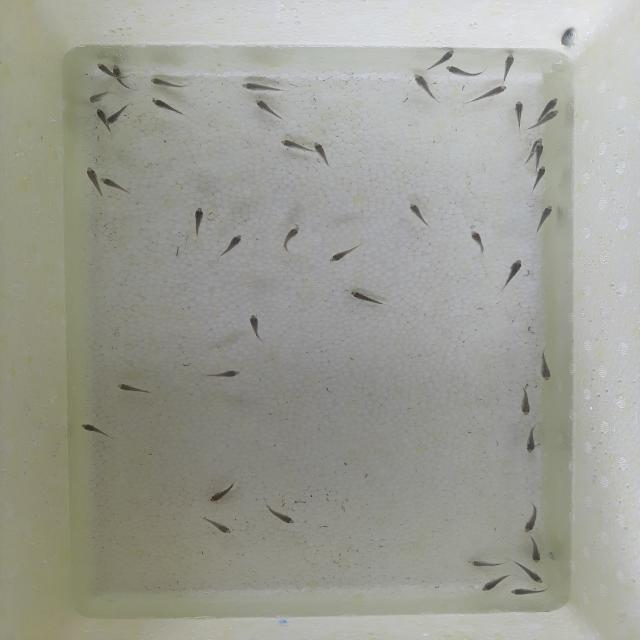fingerling: (548, 23, 584, 58), (411, 70, 444, 108), (460, 82, 509, 106), (259, 502, 304, 528), (272, 223, 304, 257), (148, 96, 189, 121), (346, 289, 391, 311), (324, 242, 366, 265), (496, 45, 522, 82), (235, 80, 293, 96), (217, 229, 245, 262), (186, 202, 208, 242), (110, 379, 156, 398), (98, 174, 134, 198), (202, 483, 236, 508), (200, 514, 235, 538), (514, 381, 536, 419), (443, 64, 489, 82), (503, 254, 526, 290), (241, 310, 265, 344), (517, 424, 542, 456), (141, 76, 190, 92), (504, 99, 530, 129), (464, 226, 490, 255), (535, 202, 556, 237), (404, 199, 428, 229), (519, 505, 543, 534), (429, 43, 454, 70), (311, 138, 333, 168), (252, 98, 282, 119), (537, 352, 555, 386), (81, 162, 100, 194), (277, 136, 310, 154), (76, 421, 112, 437), (477, 574, 506, 593), (203, 368, 242, 382), (530, 165, 550, 192), (526, 539, 545, 564), (462, 559, 505, 570), (505, 588, 548, 598), (84, 90, 110, 106), (531, 142, 548, 165), (522, 567, 545, 584), (540, 110, 561, 126), (539, 94, 561, 109), (92, 60, 109, 79), (105, 112, 121, 128), (91, 107, 106, 120), (108, 64, 125, 75)
